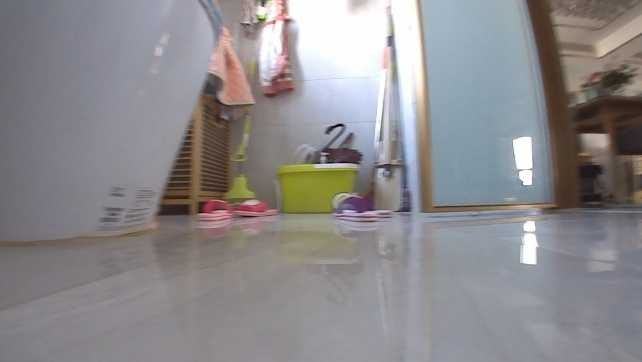door_anno: (416, 0, 568, 205)
door_sill: (557, 205, 641, 215)
slipper: (329, 190, 378, 224), (188, 197, 234, 221), (235, 195, 278, 220)
toilet: (1, 0, 225, 248)
